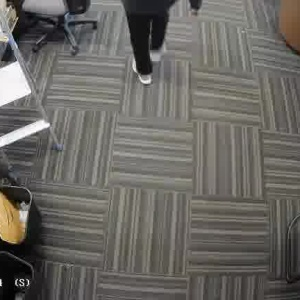person: (123, 0, 187, 85)
